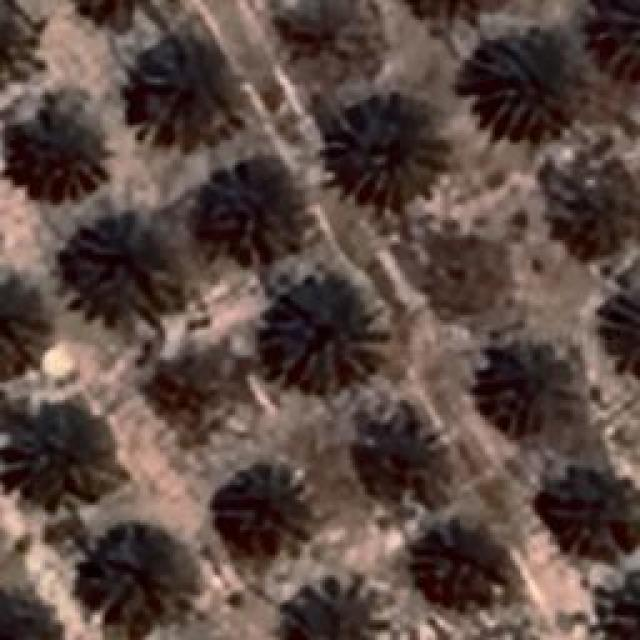PalmTree: (97, 67, 330, 611), (260, 285, 388, 393), (325, 97, 450, 205), (402, 520, 516, 618), (472, 30, 572, 138), (134, 35, 228, 143), (7, 404, 115, 498), (205, 162, 305, 262), (70, 227, 172, 315), (544, 466, 638, 559), (0, 105, 100, 190), (82, 528, 178, 616), (95, 33, 327, 67), (492, 352, 582, 438), (152, 348, 235, 432), (562, 161, 632, 259), (221, 468, 311, 542), (359, 425, 429, 493), (0, 282, 48, 378), (592, 0, 640, 78), (600, 294, 640, 374), (0, 592, 58, 640), (62, 0, 175, 24), (0, 1, 33, 83), (607, 570, 640, 640), (393, 0, 508, 20), (617, 569, 640, 640), (394, 0, 504, 12)
